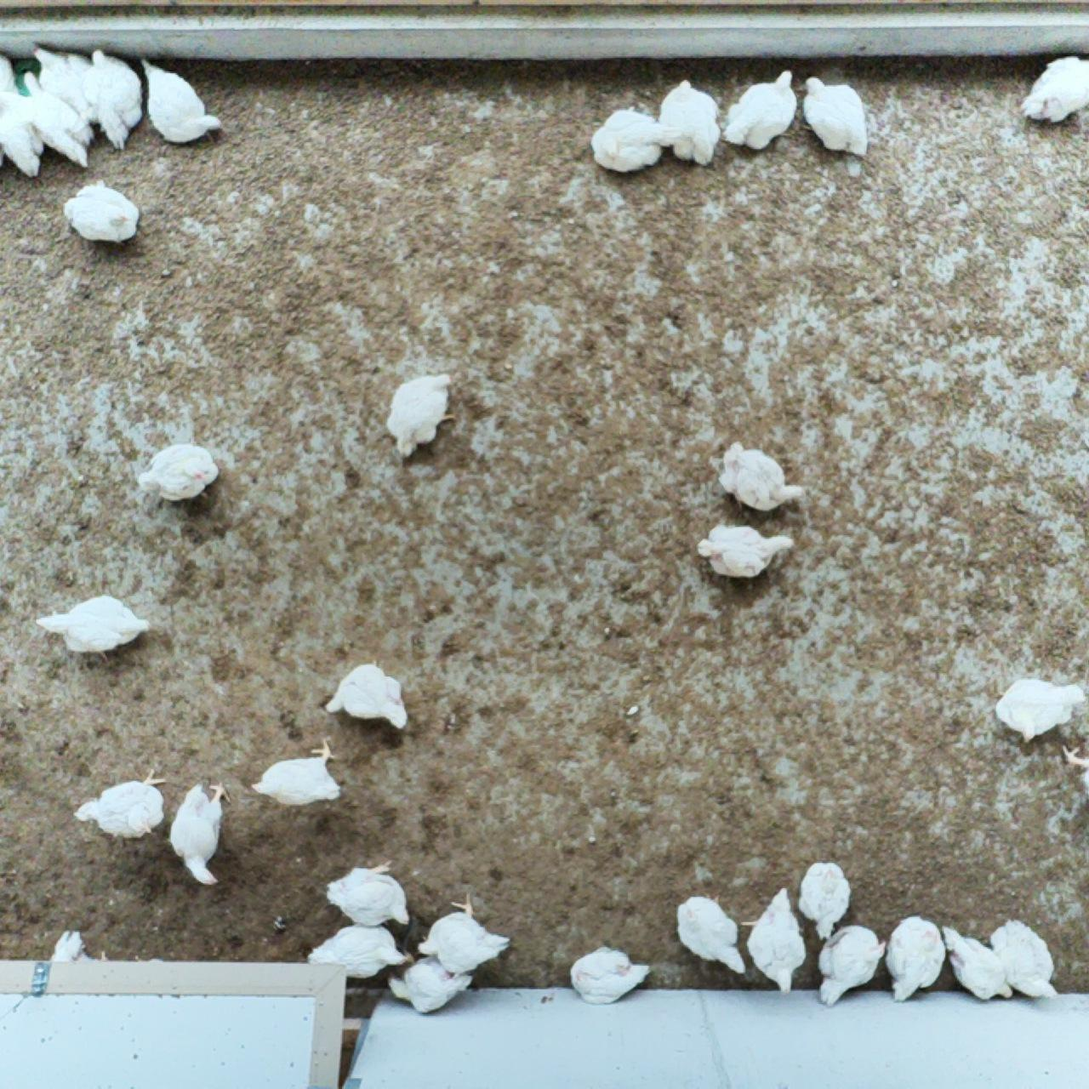chicken: (30, 589, 153, 661), (13, 66, 96, 171), (410, 893, 514, 976), (719, 58, 805, 152), (72, 764, 171, 843), (139, 57, 224, 146), (166, 779, 234, 888), (378, 371, 458, 462), (748, 883, 810, 998), (247, 735, 345, 807), (713, 438, 805, 514), (995, 672, 1089, 746), (83, 44, 148, 151), (984, 916, 1061, 1006), (800, 71, 872, 162), (318, 660, 410, 731), (305, 924, 418, 981), (656, 75, 723, 171), (1005, 48, 1089, 123), (697, 519, 797, 582), (939, 921, 1015, 1003), (321, 858, 413, 925), (63, 170, 143, 247), (672, 893, 745, 975), (587, 103, 668, 176), (383, 956, 478, 1018), (814, 928, 890, 1005), (30, 44, 100, 127), (133, 441, 221, 507), (885, 914, 948, 1006), (566, 944, 655, 1007), (796, 860, 853, 943), (0, 91, 47, 178), (0, 49, 21, 168), (46, 925, 97, 964)
